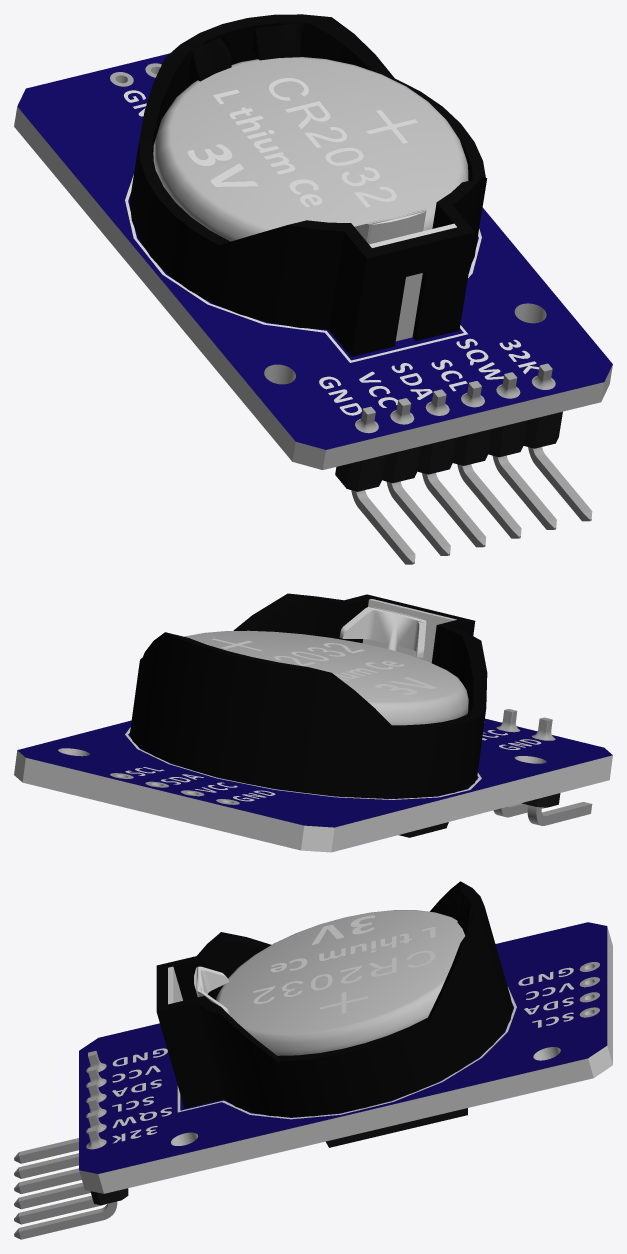
Rendered from 9. RTC DS3231.gltf.
The picture shows the model from 3 angles, top to bottom: view 1: azimuth 30°, elevation 25°; view 2: azimuth 150°, elevation 25°; view 3: azimuth 270°, elevation 25°; orthographic projection. The views are drawn at different scales.
Visible parts, largest first — view 1: DS3231_RTC.003, DS3231_RTC.004, Circle.002, DS3231_RTC.001, DS3231_RTC.008; view 2: DS3231_RTC.004, DS3231_RTC.003, Circle.002, DS3231_RTC.008, DS3231_RTC.001; view 3: DS3231_RTC.003, DS3231_RTC.004, Circle.002, DS3231_RTC.001, DS3231_RTC.008.
Part boxes in pixels (x1,y1,x2,y2): DS3231_RTC.003: [14, 53, 612, 564]; DS3231_RTC.004: [129, 14, 487, 356]; Circle.002: [153, 57, 468, 241]; DS3231_RTC.001: [187, 78, 417, 207]; DS3231_RTC.008: [354, 209, 456, 341]; DS3231_RTC.004: [129, 593, 487, 798]; DS3231_RTC.003: [14, 709, 612, 852]; Circle.002: [184, 630, 468, 725]; DS3231_RTC.008: [339, 599, 456, 662]; DS3231_RTC.001: [211, 638, 436, 694]; DS3231_RTC.003: [14, 922, 612, 1239]; DS3231_RTC.004: [156, 881, 512, 1117]; Circle.002: [216, 910, 465, 1055]; DS3231_RTC.001: [253, 915, 435, 1013]; DS3231_RTC.008: [168, 966, 229, 1014].
Size of the model in its own units: 0.0228 by 0.0225 by 0.0424.
